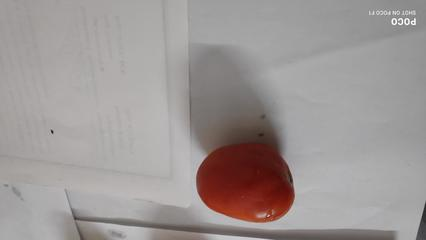tomato: (187, 141, 296, 219)
